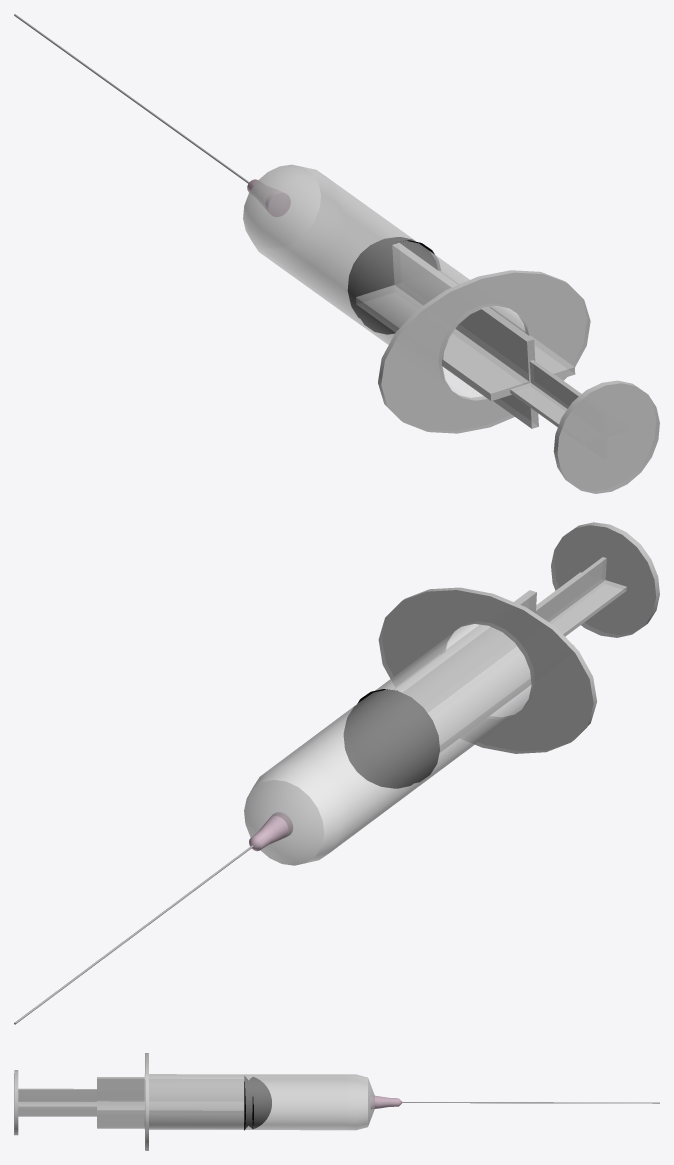
The model's file is Siringa.fbx.
3 renders of one model, top to bottom at view 1: azimuth 30°, elevation 25°; view 2: azimuth 150°, elevation 25°; view 3: azimuth 270°, elevation 25°, orthographic. The views are drawn at different scales.
Visible parts, largest first — view 1: Pompa, Kap, Destek, Uc, igne; view 2: Kap, Pompa, Destek, Uc, igne; view 3: Kap, Pompa, igne, Destek, Uc.
Part boxes in pixels (box(x1,y1,x2,y2)): Pompa: box(348, 237, 659, 493); Kap: box(243, 164, 528, 400); Destek: box(378, 270, 590, 433); Uc: box(247, 179, 290, 216); igne: box(14, 14, 249, 183); Kap: box(244, 623, 531, 865); Pompa: box(344, 522, 659, 788); Destek: box(378, 587, 596, 753); Uc: box(249, 812, 292, 851); igne: box(14, 845, 253, 1024); Kap: box(144, 1074, 374, 1130); Pompa: box(14, 1070, 271, 1135); igne: box(402, 1102, 659, 1103); Destek: box(145, 1053, 149, 1150); Uc: box(371, 1095, 402, 1109).
Size of the model in its own units: 1.03 by 0.7049 by 4.99.
